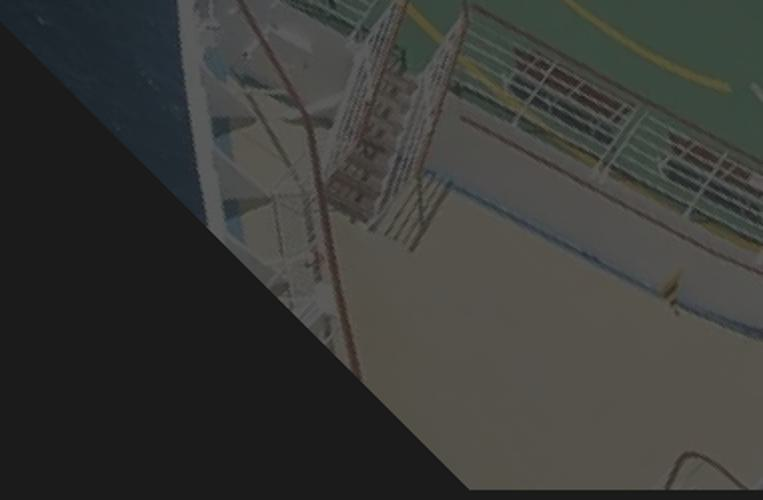Apron: (476, 1, 738, 116)
